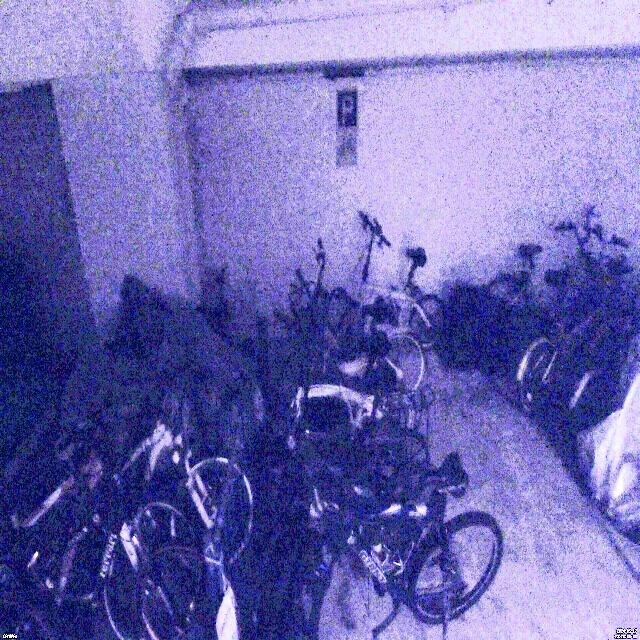bike: (297, 451, 503, 640), (36, 402, 253, 568), (296, 237, 425, 391), (337, 213, 443, 367), (485, 218, 607, 350)
